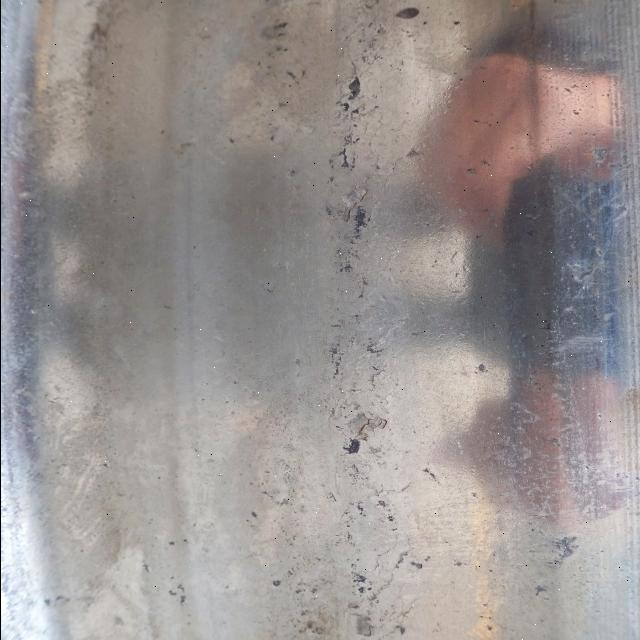fatigue crack: (333, 405, 395, 455)
